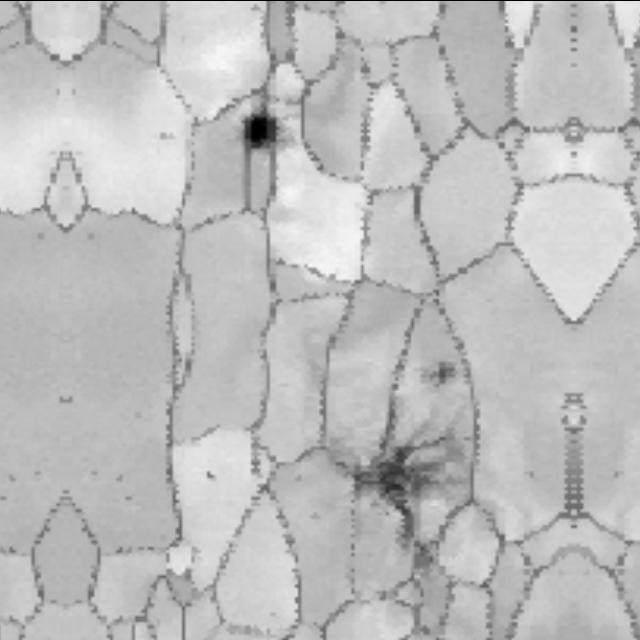good_void: (325, 400, 517, 587), (236, 102, 296, 163), (408, 347, 466, 406), (155, 125, 178, 148), (203, 463, 224, 486), (55, 394, 67, 406), (67, 394, 78, 406)
